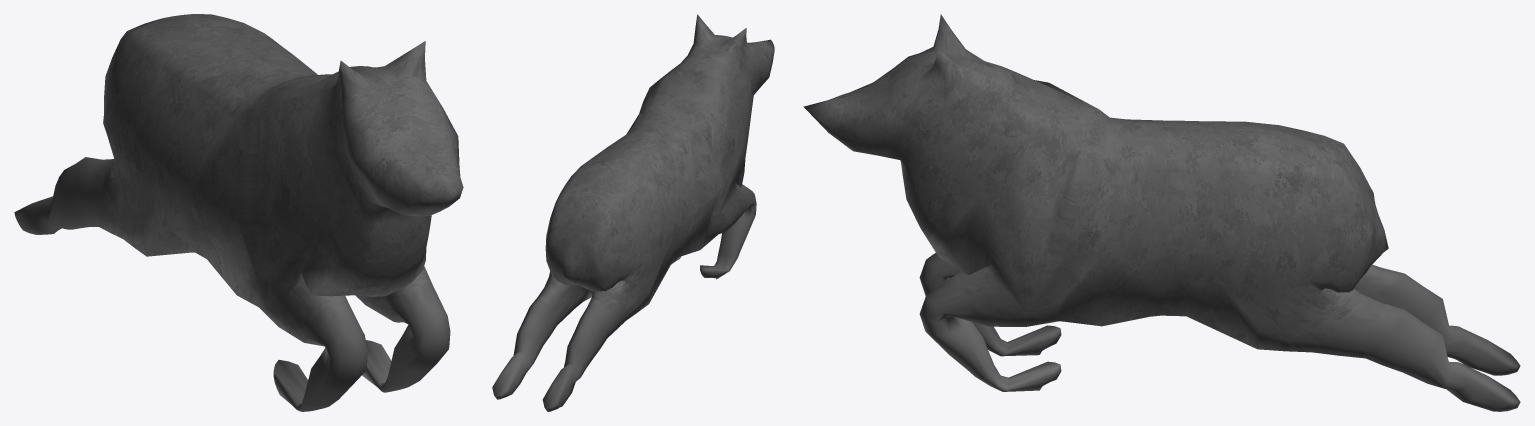
Rendered from piesblend_000017.obj.
The picture shows the model from 3 angles, left to right: view 1: azimuth 30°, elevation 25°; view 2: azimuth 150°, elevation 25°; view 3: azimuth 270°, elevation 25°; orthographic projection. The views are drawn at different scales.
Parts seen in each view (by area): view 1: Cube; view 2: Cube; view 3: Cube.
Part boxes in pixels (x1,y1,x2,y2): Cube: [14, 14, 463, 411]; Cube: [492, 14, 774, 411]; Cube: [803, 14, 1520, 411].
Size of the model in its own units: 2.55 by 5.81 by 10.49.
Materials: 1 (1 with a texture image).
